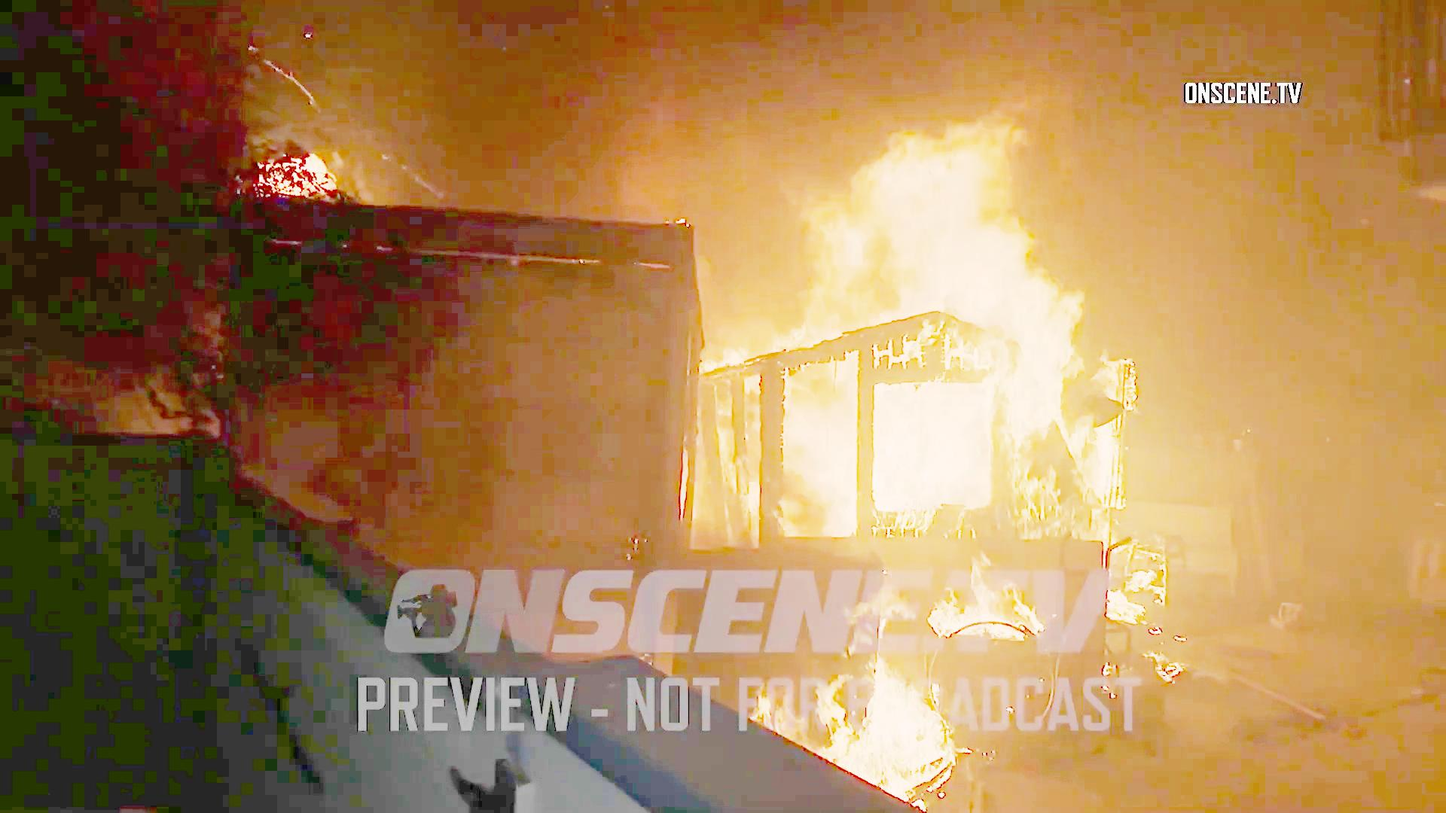fire: (689, 96, 1124, 535), (810, 629, 953, 768)
